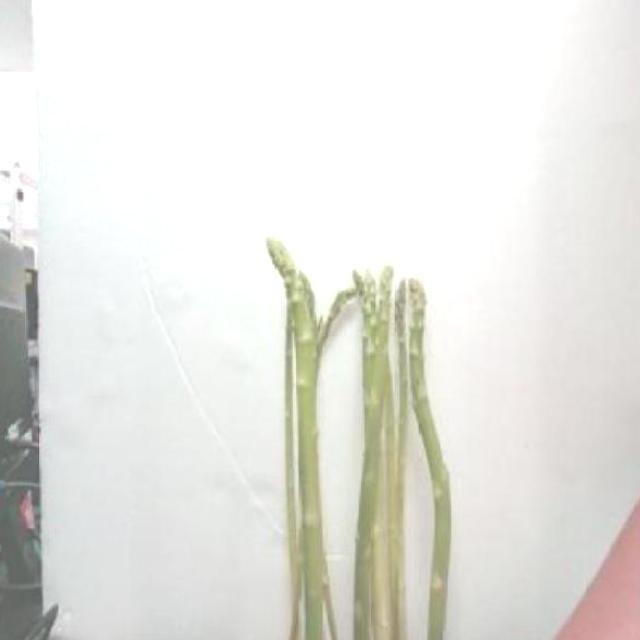aspargus: (267, 234, 454, 640)
